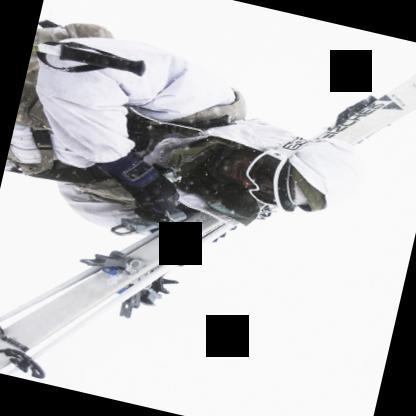backpack: (168, 90, 249, 130)
